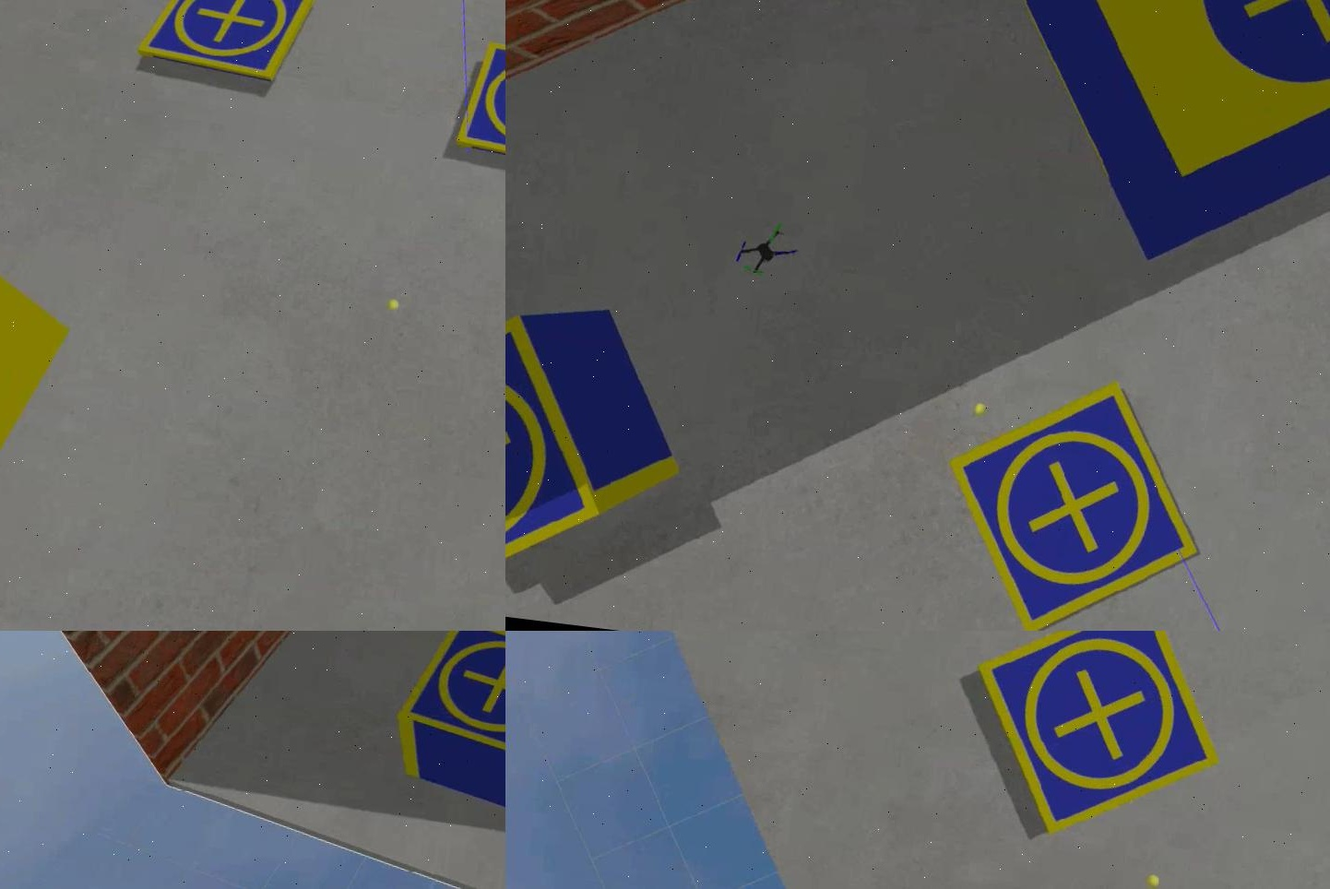large_base: (950, 1, 1328, 306)
small_base: (924, 365, 1217, 631), (960, 631, 1237, 856), (505, 299, 627, 631), (132, 1, 315, 92), (391, 631, 505, 768), (450, 41, 505, 180)
